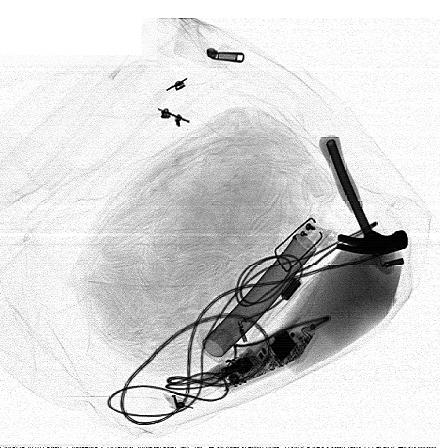Hammer: (319, 134, 409, 256)
